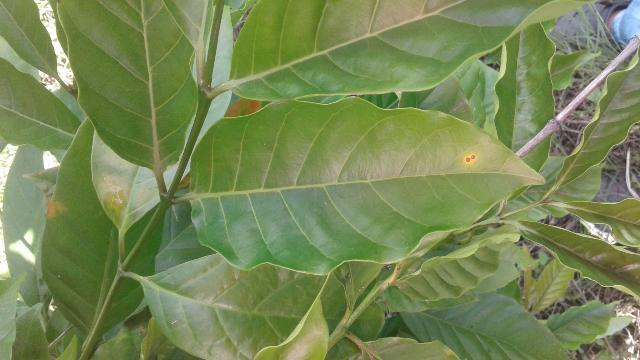rust_level_1: (190, 95, 548, 276)
